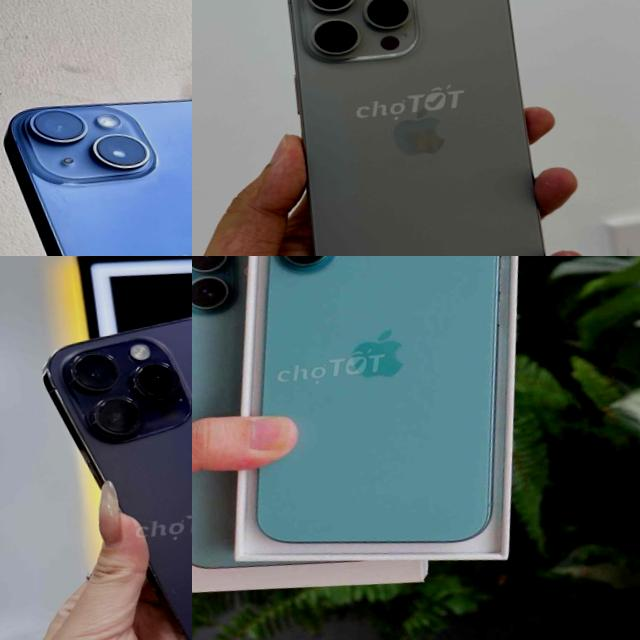gen_14: (34, 299, 192, 640), (2, 45, 192, 256)
gen_15: (268, 0, 569, 256)
gen_16: (217, 256, 545, 580)
